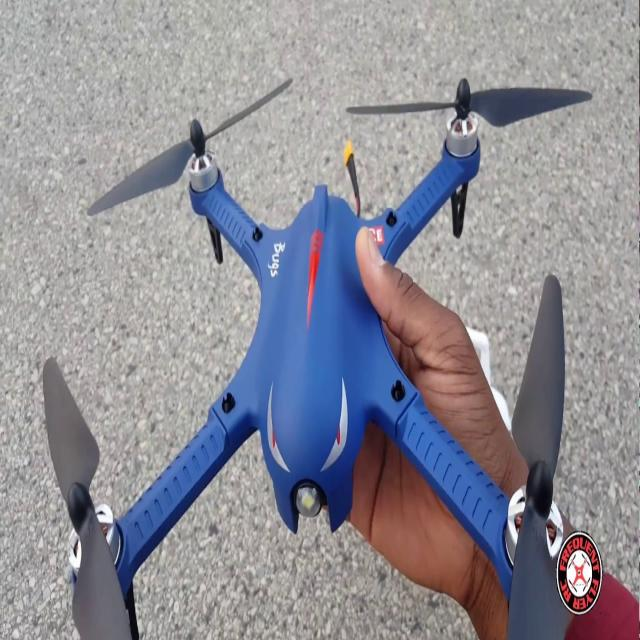drone: (18, 23, 586, 598)
